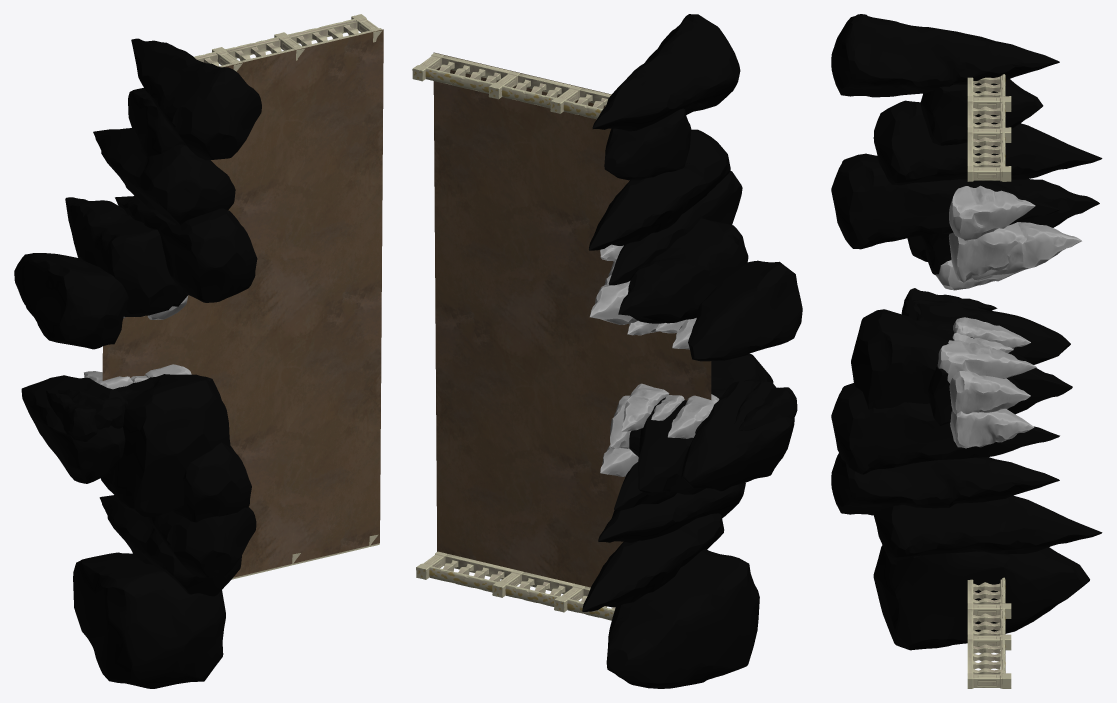
File: GrandmaBossStart.fbx
The picture shows the model from 3 angles, left to right: view 1: azimuth 30°, elevation 25°; view 2: azimuth 150°, elevation 25°; view 3: azimuth 270°, elevation 25°; orthographic projection. The views are drawn at different scales.
Visible parts, largest first — view 1: DoorStarter, Rock_Sharp2 (27).004, Rock_Sharp1 (13), Rock_Sharp1 (13).007, Rock_Sharp2 (27), Rock_Sharp1 (13).001, Rock_Sharp1 (13).012, Rock_Sharp1 (13).013, Rock_Sharp2 (28), Rock_Sharp1 (13).010, Rock_Sharp1 (13).011, Rock_Sharp1 (13).009 (+4 smaller); view 2: DoorStarter, Rock_Sharp2 (27).004, Rock_Sharp1 (13).007, Rock_Sharp2 (27), Rock_Sharp1 (13).001, Rock_Sharp1 (13).013, Rock_Sharp2 (28), Rock_Sharp1 (13).009, Rock_Sharp1 (13), Rock_Sharp2 (27).003, Rock_Sharp1 (13).010, Rock_Sharp1 (13).012 (+14 smaller); view 3: Rock_Sharp2 (27).004, Rock_Sharp1 (13).007, Rock_Sharp1 (13).009, Rock_Sharp1 (13).012, Rock_Sharp1 (13).010, Rock_Sharp1 (13), Rock_Sharp1 (13).011, Rock_Sharp1 (13).013, Rock_Sharp2 (27).003, Rock_Sharp_QuickBrushVersion_nofade (24), Rock_Sharp2 (28), Rock_Sharp_QuickBrushVersion_nofade (23) (+17 smaller).
Part boxes in pixels (box(x1,y1,x2,y2)): DoorStarter: box(102, 29, 383, 577); Rock_Sharp2 (27).004: box(73, 552, 225, 688); Rock_Sharp1 (13): box(100, 374, 230, 516); Rock_Sharp1 (13).007: box(131, 38, 261, 160); Rock_Sharp2 (27): box(14, 253, 128, 349); Rock_Sharp1 (13).001: box(65, 197, 182, 316); Rock_Sharp1 (13).012: box(115, 196, 257, 302); Rock_Sharp1 (13).013: box(93, 128, 235, 225); Rock_Sharp2 (28): box(21, 375, 125, 483); Rock_Sharp1 (13).010: box(147, 507, 256, 577); Rock_Sharp1 (13).011: box(172, 442, 251, 522); Rock_Sharp1 (13).009: box(99, 495, 241, 596); DoorStarter: box(433, 52, 711, 587); Rock_Sharp2 (27).004: box(606, 549, 759, 688); Rock_Sharp1 (13).007: box(592, 14, 740, 131); Rock_Sharp2 (27): box(688, 260, 802, 361); Rock_Sharp1 (13).001: box(618, 218, 748, 323); Rock_Sharp1 (13).013: box(589, 129, 730, 250); Rock_Sharp2 (28): box(681, 380, 794, 491); Rock_Sharp1 (13).009: box(582, 513, 724, 611); Rock_Sharp1 (13): box(638, 353, 773, 494); Rock_Sharp2 (27).003: box(604, 108, 691, 180); Rock_Sharp1 (13).010: box(598, 482, 745, 542); Rock_Sharp1 (13).012: box(608, 171, 742, 285); Rock_Sharp2 (27).004: box(873, 545, 1089, 650); Rock_Sharp1 (13).007: box(831, 14, 1059, 97); Rock_Sharp1 (13).009: box(874, 495, 1102, 564); Rock_Sharp1 (13).012: box(831, 153, 1059, 249); Rock_Sharp1 (13).010: box(831, 453, 1059, 515); Rock_Sharp1 (13): box(851, 309, 1072, 414); Rock_Sharp1 (13).011: box(831, 383, 1059, 474); Rock_Sharp1 (13).013: box(873, 100, 1102, 185); Rock_Sharp2 (27).003: box(920, 79, 1043, 145); Rock_Sharp_QuickBrushVersion_nofade (24): box(949, 185, 1035, 240); Rock_Sharp2 (28): box(916, 303, 1070, 364); Rock_Sharp_QuickBrushVersion_nofade (23): box(949, 222, 1024, 282).
Size of what is drawn, in the model's own units: 3378 by 5757 by 2237.
